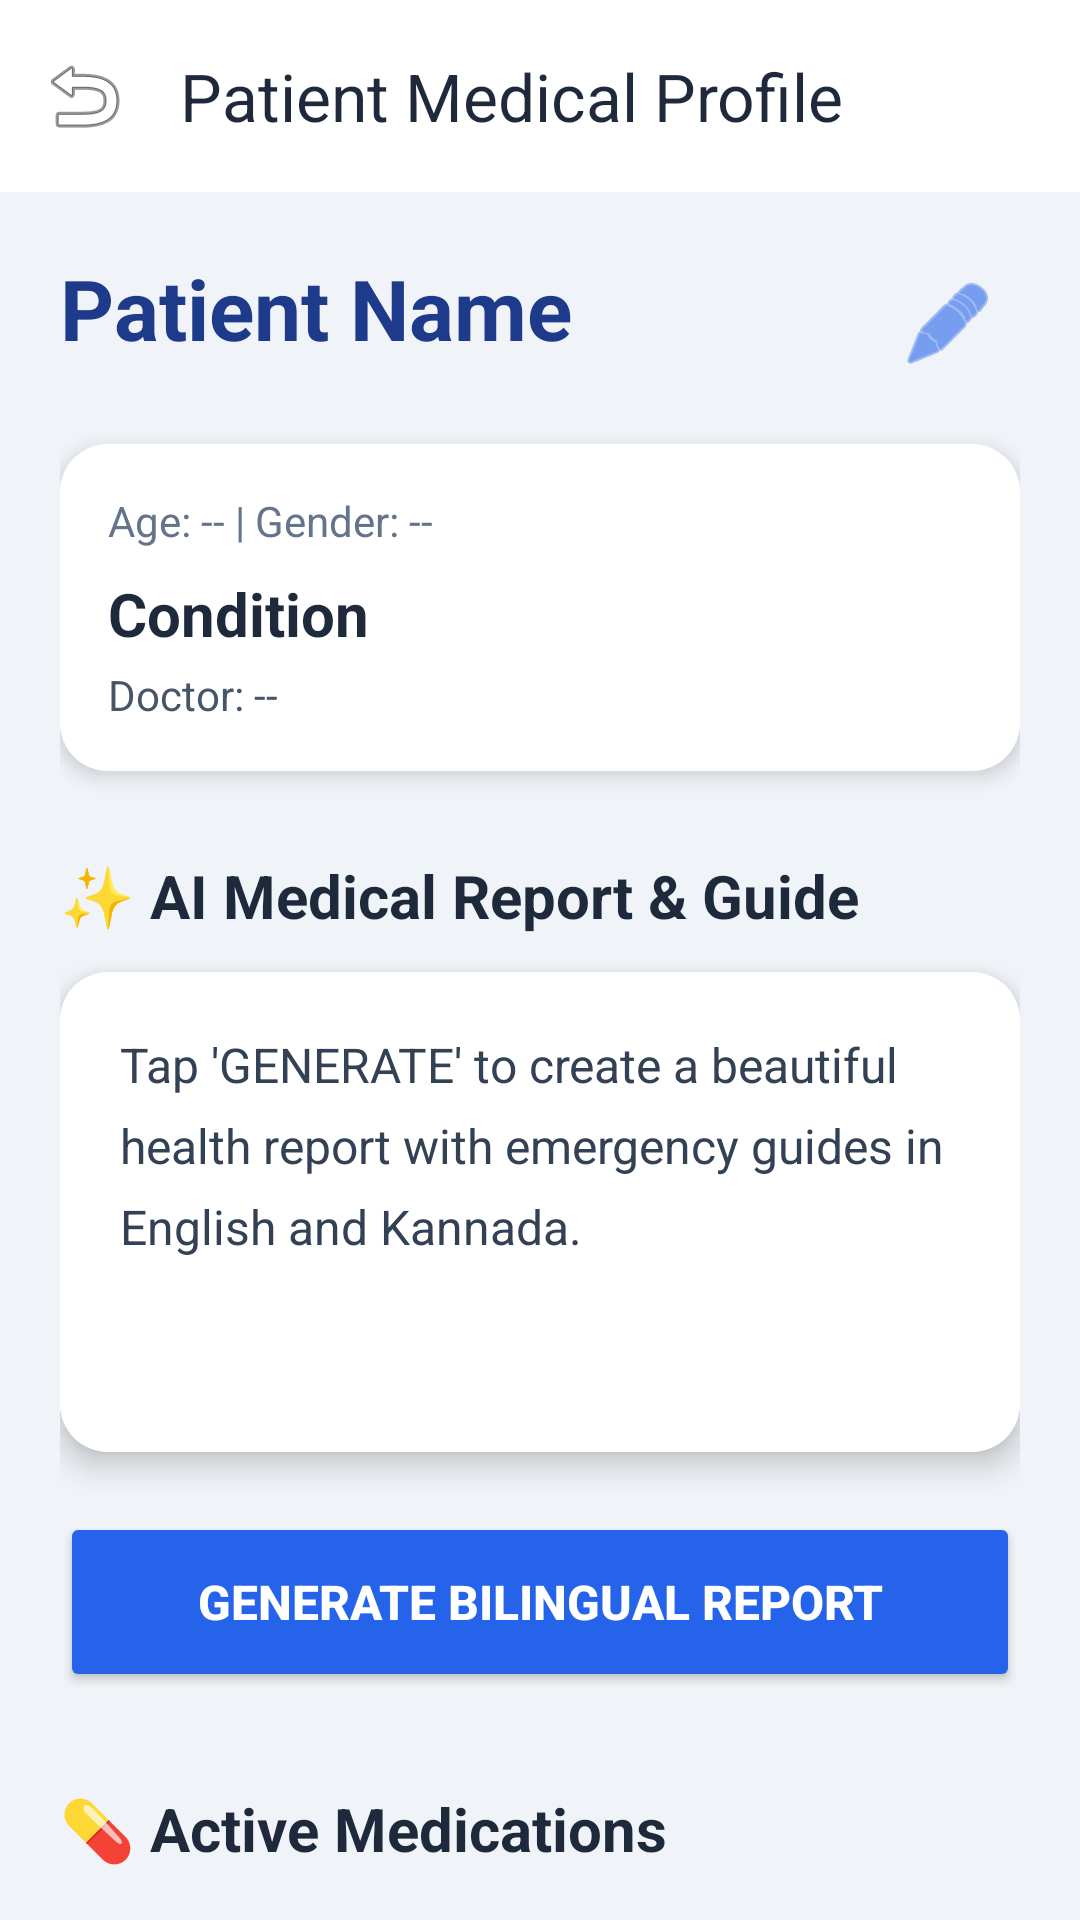

Screen size 1080 x 1920. Icon name, then its box in pixels as (x1, y1, x2, y2):
Edit: (907, 283, 988, 364)
